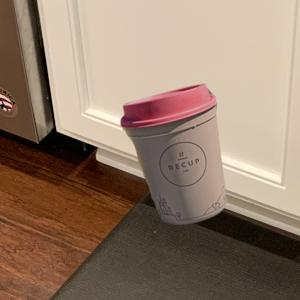cup: (121, 83, 229, 225)
